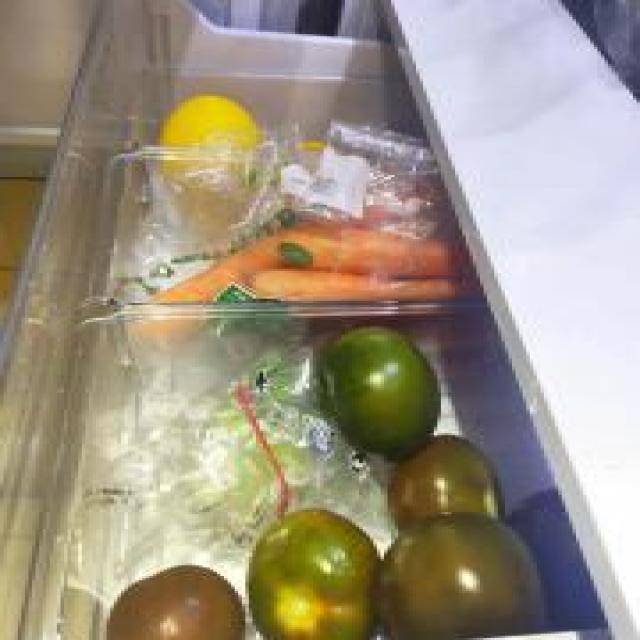carrot: (142, 224, 324, 303), (283, 228, 464, 280), (249, 268, 480, 304)
lemon: (160, 95, 260, 208)
salad: (132, 347, 391, 540)
tomato: (378, 512, 546, 640), (247, 510, 382, 640), (318, 324, 439, 459), (388, 436, 508, 537), (107, 563, 245, 640)
